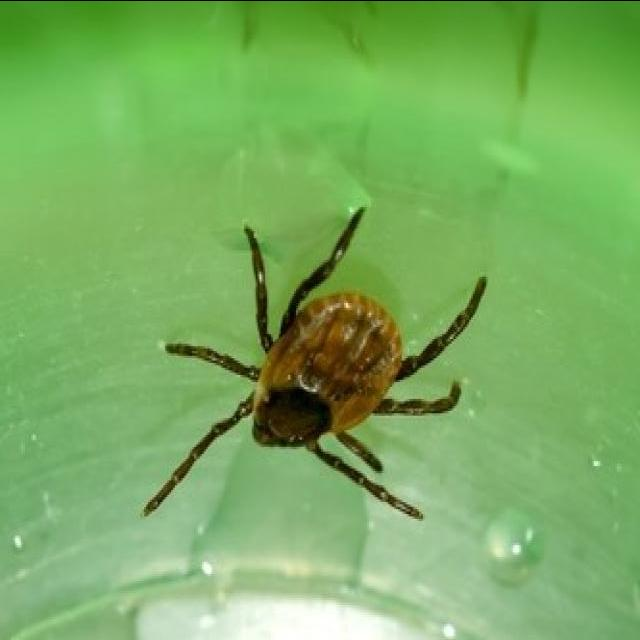Rhipicephalus Sanguineus-F: (140, 206, 484, 520)
